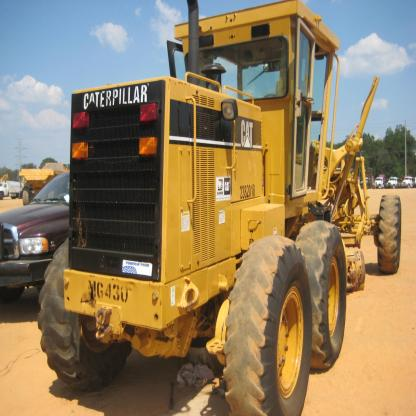bull_dozer/loader/grader: (47, 4, 412, 416)
